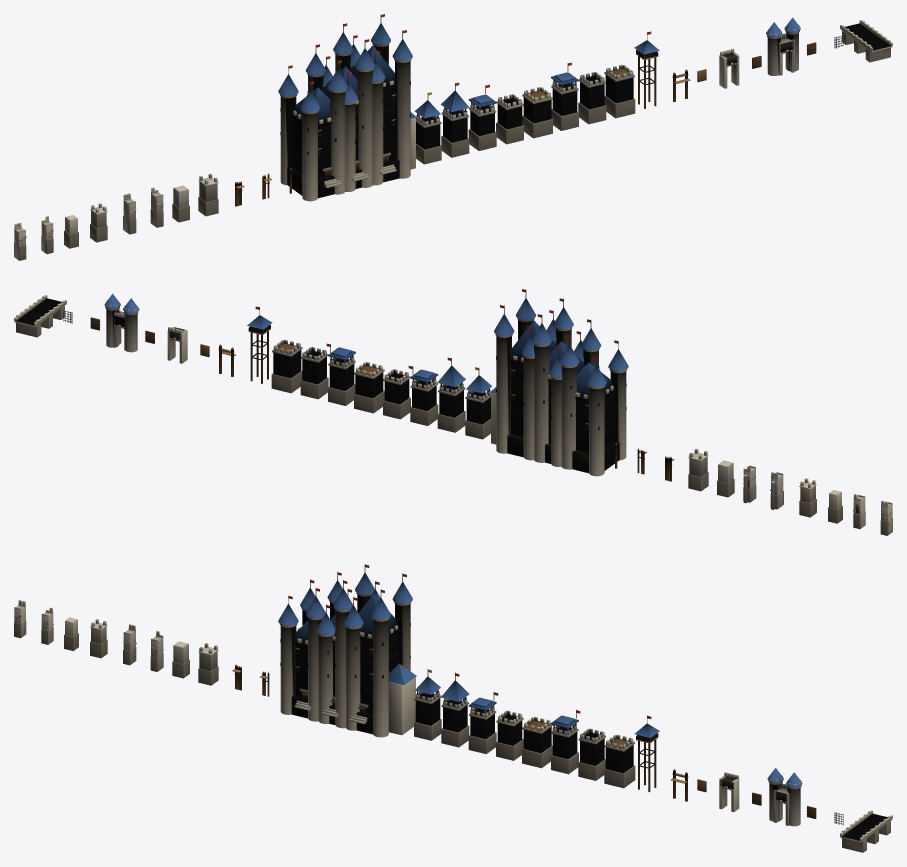
The model's file is kit_walls.glb.
3 views of the same model, one above another, from view 1: azimuth 30°, elevation 25°; view 2: azimuth 150°, elevation 25°; view 3: azimuth 330°, elevation 25° (orthographic).
Visible parts, largest first — view 1: keep3, keep1, keep2, tower_bow3, gate3, tower_xbow2, tower_bow2, tower_catapult2, tower_xbow1, tower_catapult1, bridge, ballista2 (+6 smaller); view 2: keep3, keep1, keep2, tower_bow3, gate3, tower_xbow2, tower_bow2, tower_catapult2, tower_xbow1, tower_catapult1, bridge, ballista2 (+6 smaller); view 3: keep3, keep1, keep2, tower_bow3, gate3, tower_bow2, tower_xbow2, tower_catapult2, tower_xbow1, tower_catapult1, bridge, ballista2 (+6 smaller).
Boxes of the visible parts, box(x1,y1,x2,y2) form: keep3: box(333, 14, 416, 187); keep1: box(278, 56, 357, 201); keep2: box(305, 35, 385, 194); tower_bow3: box(441, 82, 469, 157); gate3: box(766, 17, 800, 75); tower_xbow2: box(551, 62, 578, 130); tower_bow2: box(414, 92, 441, 164); tower_catapult2: box(604, 64, 635, 118); tower_xbow1: box(468, 84, 496, 150); tower_catapult1: box(522, 87, 552, 138); bridge: box(840, 20, 892, 62); ballista2: box(578, 72, 606, 124); keep3: box(490, 289, 573, 462); keep1: box(549, 331, 628, 476); keep2: box(521, 310, 601, 469); tower_bow3: box(437, 357, 465, 432); gate3: box(104, 293, 139, 352); tower_xbow2: box(326, 343, 355, 405); tower_bow2: box(465, 367, 492, 439); tower_catapult2: box(271, 339, 302, 393); tower_xbow1: box(408, 366, 438, 425); tower_catapult1: box(354, 362, 384, 413); bridge: box(14, 295, 66, 337); ballista2: box(300, 347, 328, 399); keep3: box(333, 564, 416, 737); keep1: box(278, 579, 351, 723); keep2: box(306, 571, 380, 730); tower_bow3: box(441, 672, 469, 747); gate3: box(767, 768, 802, 826); tower_bow2: box(414, 669, 441, 740); tower_xbow2: box(551, 709, 580, 774); tower_catapult2: box(604, 734, 635, 788); tower_xbow1: box(468, 692, 498, 754); tower_catapult1: box(522, 716, 552, 768); bridge: box(840, 810, 892, 852); ballista2: box(578, 728, 605, 780).
Bounding box in the file's own units: 251 × 41.2 × 16.25.
